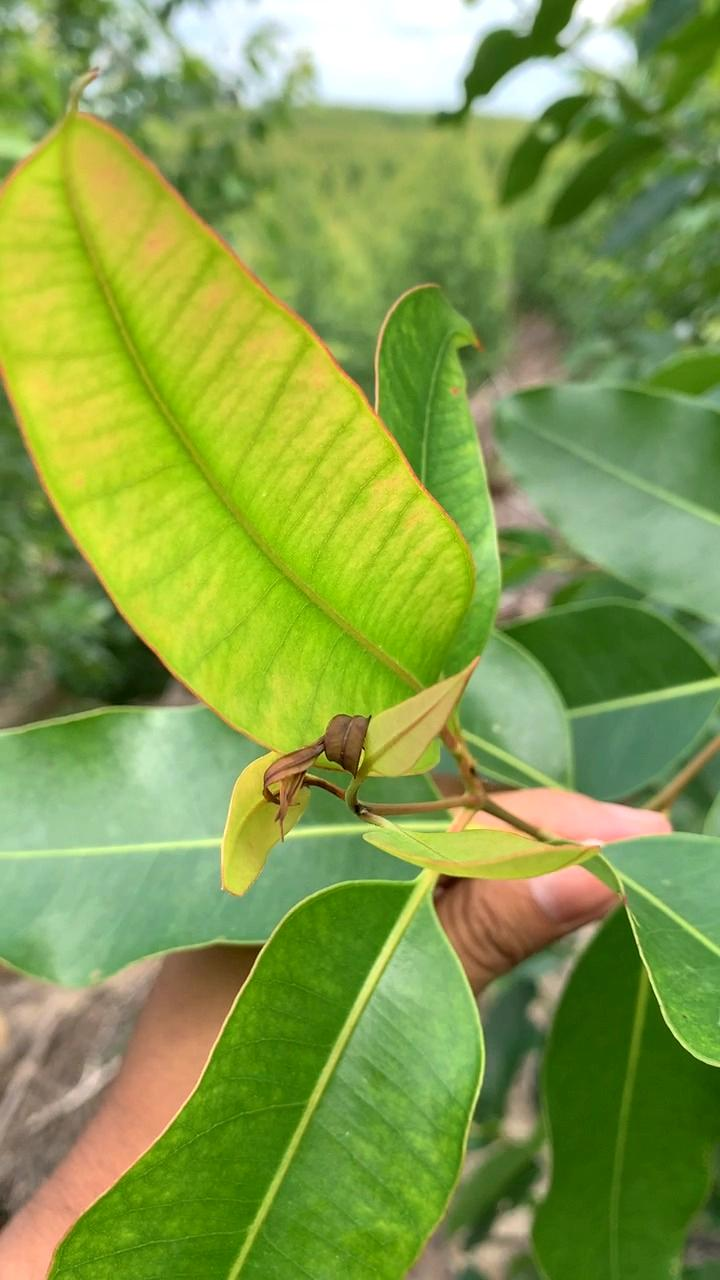Helopeltis-Withered Sprout: (268, 710, 369, 805)
